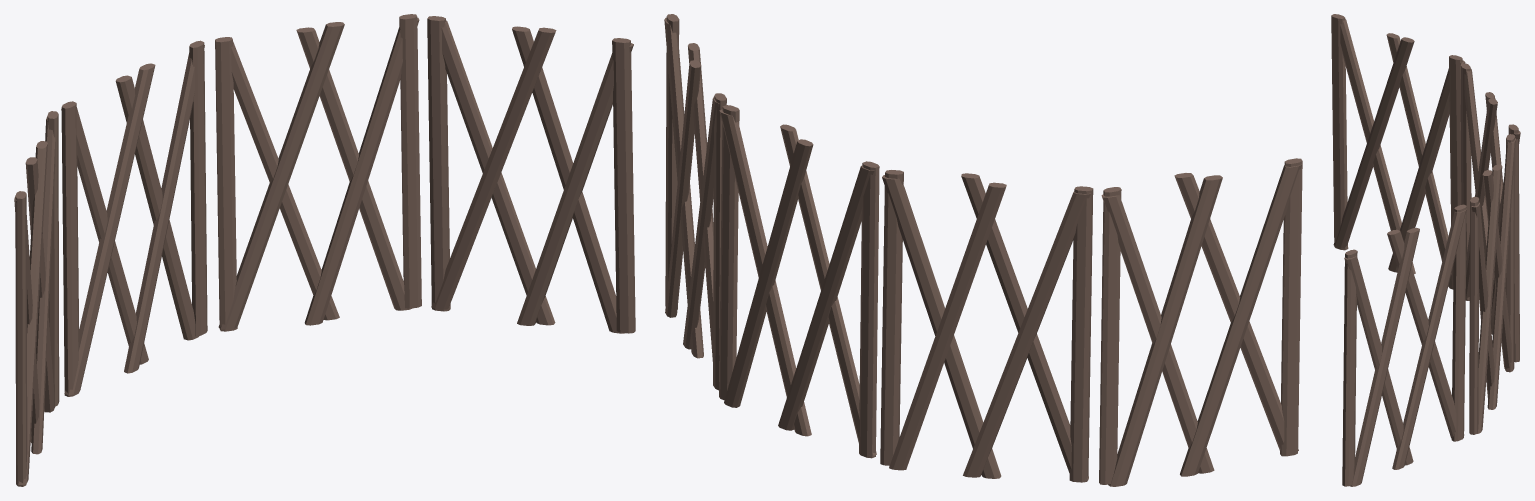
The model's file is Trellis1.fbx.
The picture shows the model from 3 angles, left to right: view 1: azimuth 30°, elevation 25°; view 2: azimuth 150°, elevation 25°; view 3: azimuth 270°, elevation 25°; orthographic projection. The views are drawn at different scales.
Visible parts, largest first — view 1: Trellis1; view 2: Trellis1; view 3: Trellis1.
Part boxes in pixels (left/top/right/bottom): Trellis1: left=14, top=14, right=635, bottom=486; Trellis1: left=664, top=14, right=1302, bottom=486; Trellis1: left=1331, top=14, right=1520, bottom=486.
Bounding box in the file's own units: 289 × 131 × 95.55.
